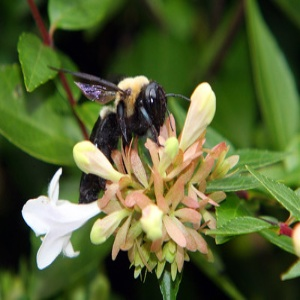bee: (47, 57, 192, 218)
